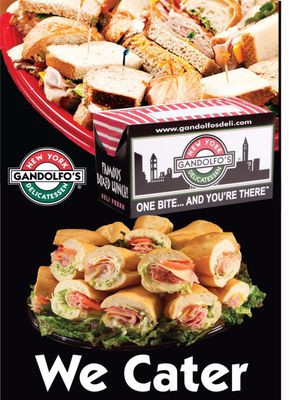soup: (42, 40, 132, 114), (143, 1, 220, 77), (77, 63, 153, 122), (45, 40, 131, 89), (7, 0, 104, 39), (21, 16, 93, 60)
